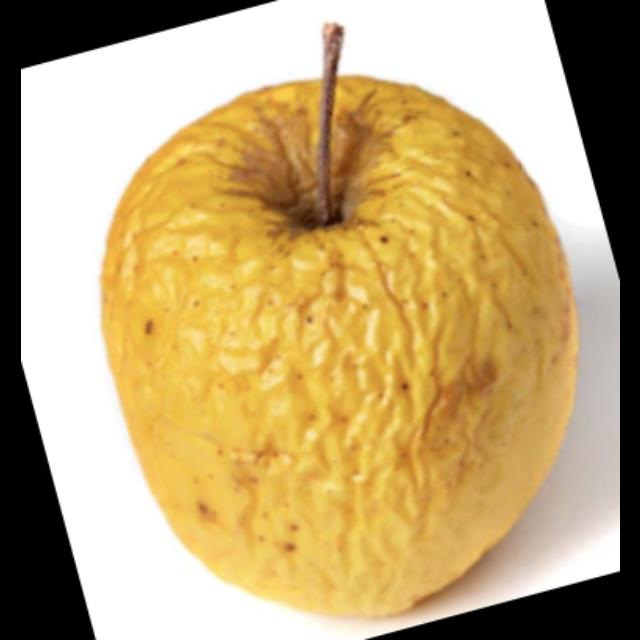Apel Tidak Segar: (94, 83, 590, 623)
